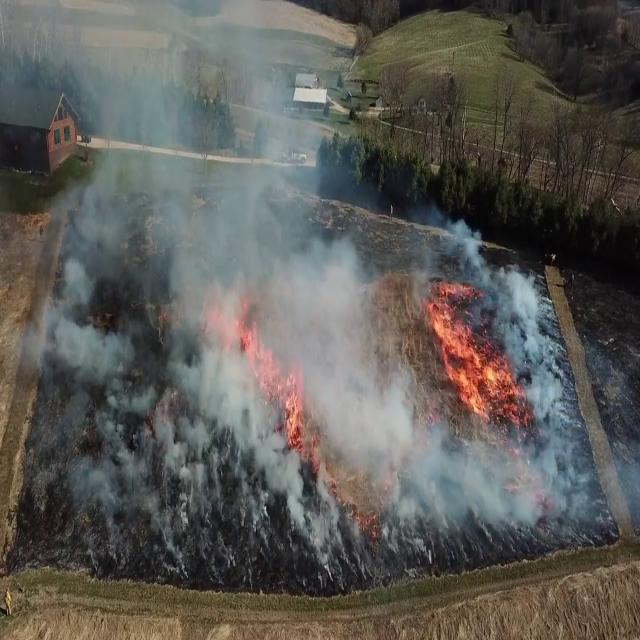Fire: (418, 283, 520, 430)
Smoke: (20, 31, 348, 575), (307, 240, 591, 571)
